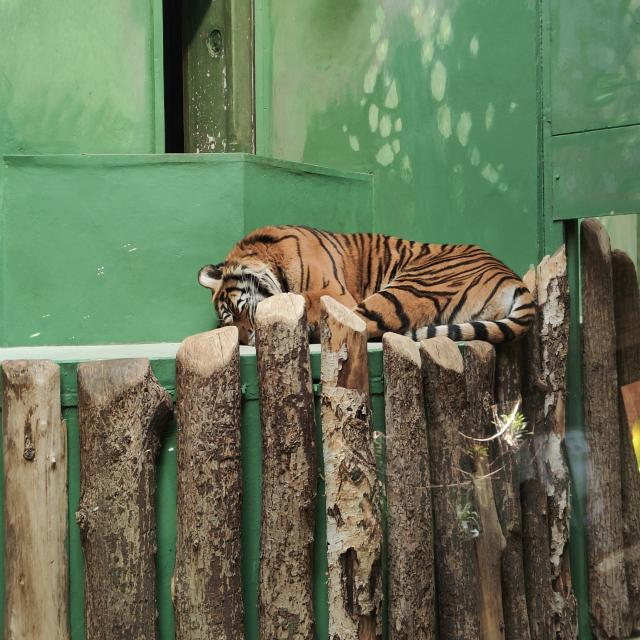tiger: (198, 224, 535, 345)
